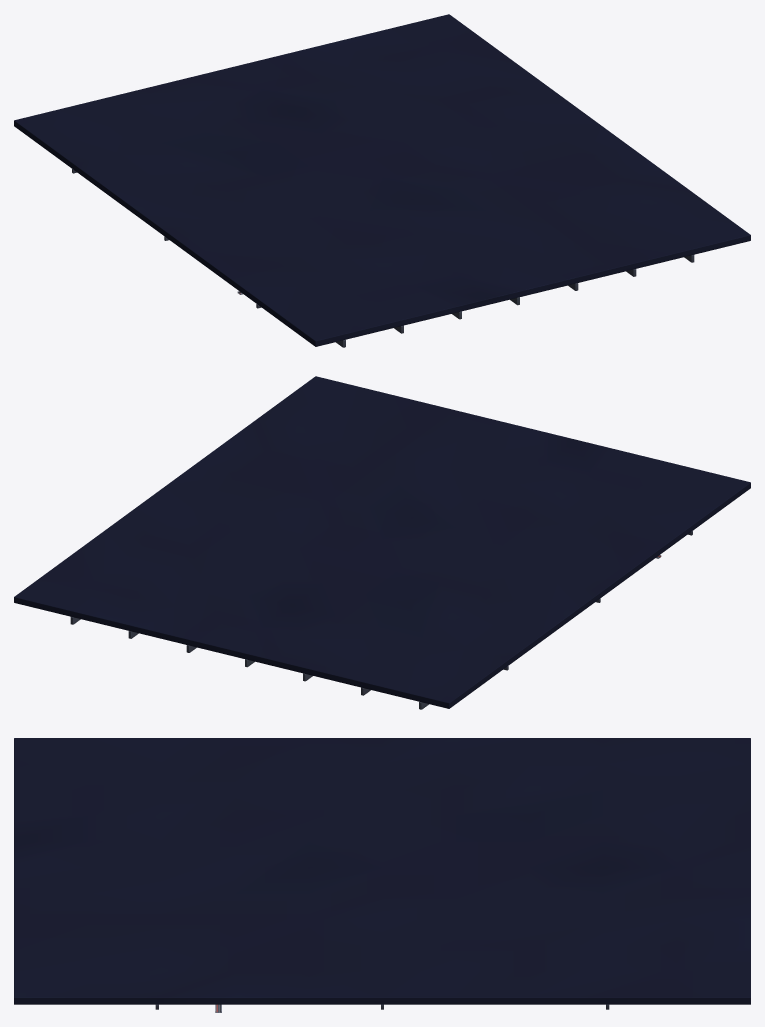
File: SM_Stage4_Ceiling.fbx
3 renders of one model, top to bottom at view 1: azimuth 30°, elevation 25°; view 2: azimuth 150°, elevation 25°; view 3: azimuth 270°, elevation 25°, orthographic. The views are drawn at different scales.
Parts seen in each view (by area): view 1: SM_Stage4_Ceiling; view 2: SM_Stage4_Ceiling; view 3: SM_Stage4_Ceiling.
Boxes of the visible parts, x1,y1,x2,y2 form: SM_Stage4_Ceiling: [14, 14, 750, 347]; SM_Stage4_Ceiling: [14, 376, 750, 709]; SM_Stage4_Ceiling: [14, 738, 750, 1012].
Size of the model in its own units: 3000 by 106 by 3600.
